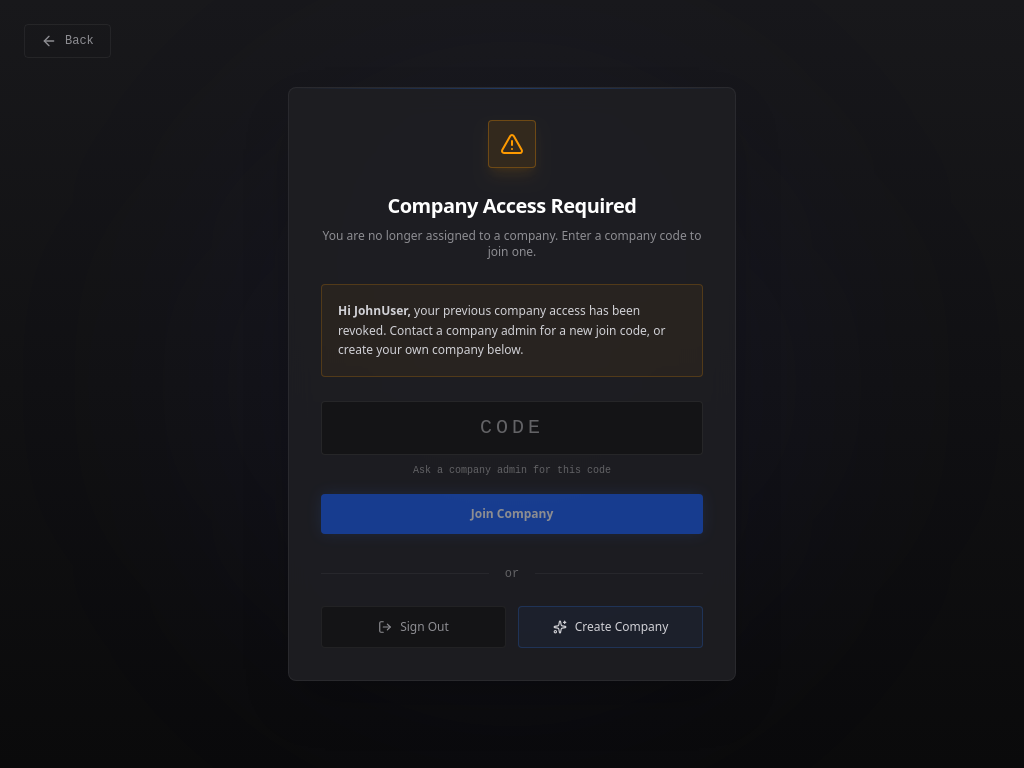
Scenario: CompanySetupPage coverage › displays error during rejoin failure
In the field with placeholder "CODE": (512, 428) [321, 401, 703, 455], type "FAIL"
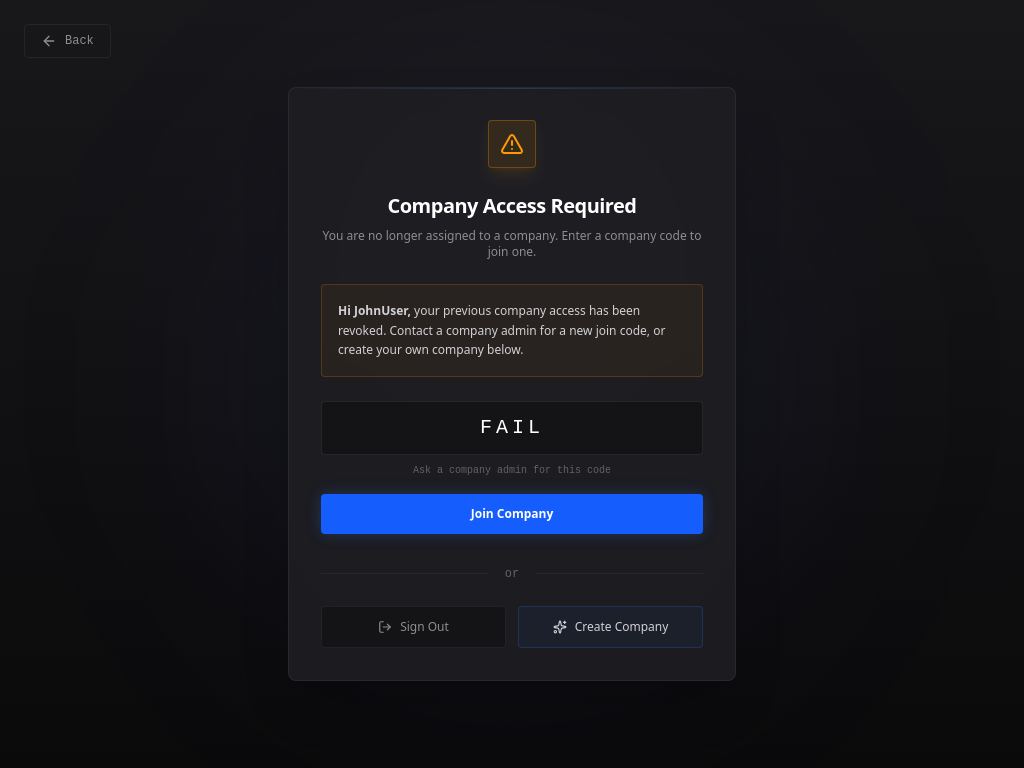
Click the button "Join Company": (512, 514) [321, 494, 703, 534]
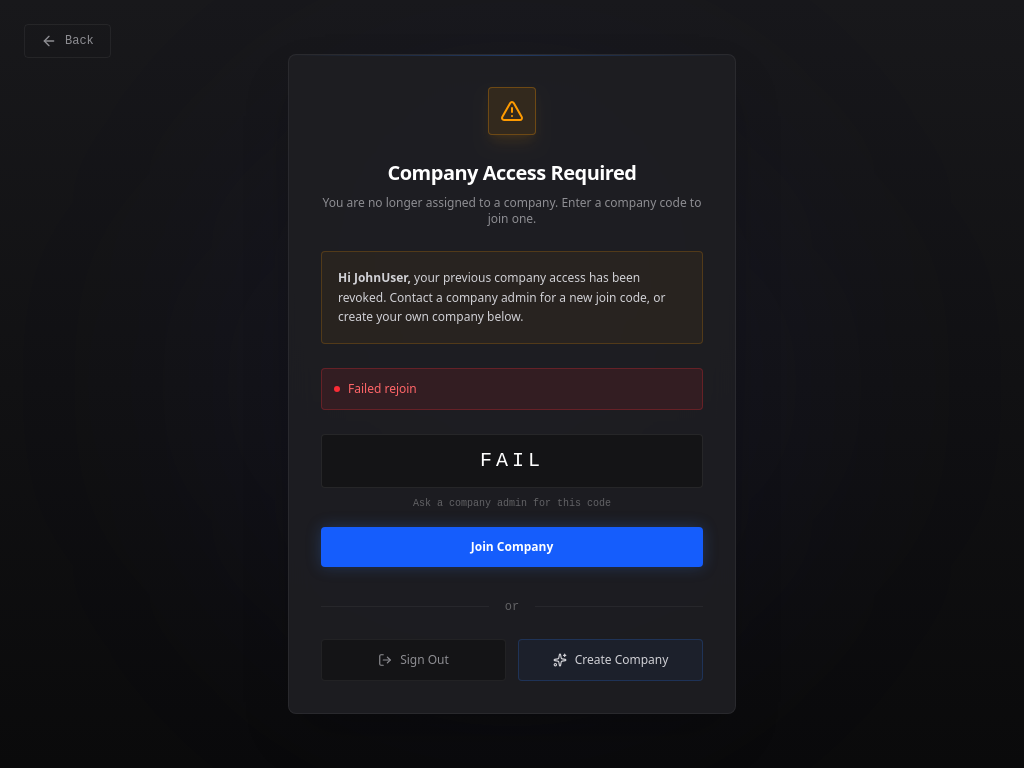
expect the text "Failed rejoin" is shown: met, box [321, 368, 703, 410]
